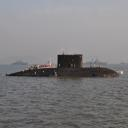submarine: (6, 56, 122, 78)
